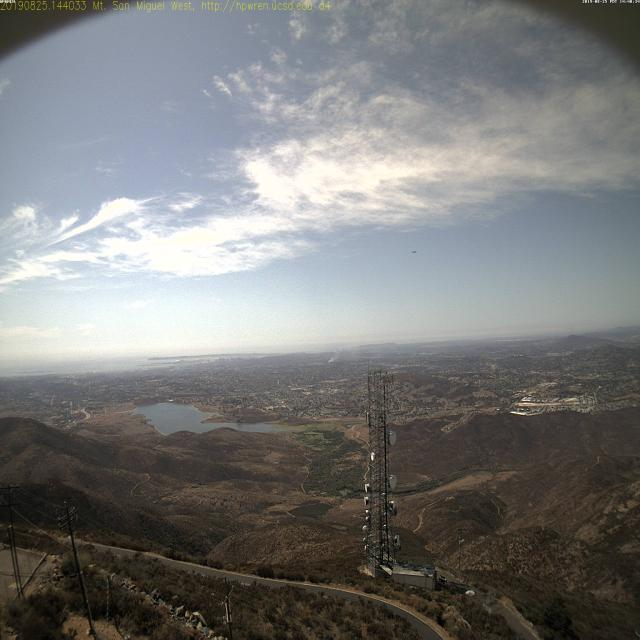smoke: (318, 335, 348, 368)
